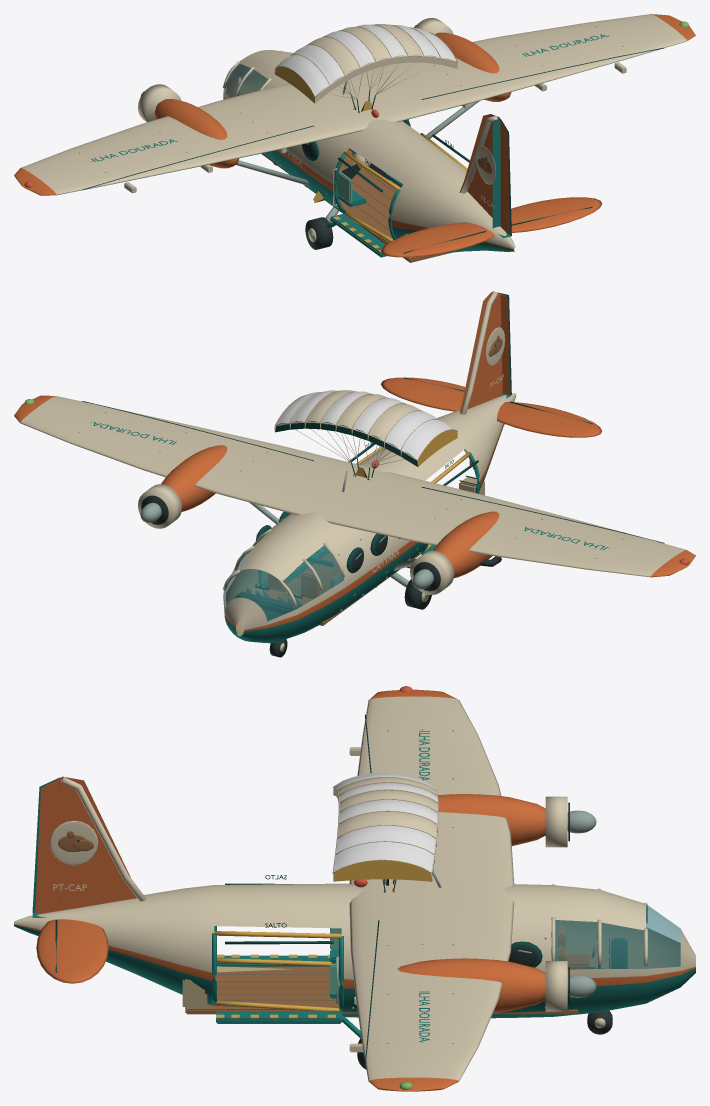
File: aircraft.glb
3 views of the same model, one above another, from view 1: azimuth 30°, elevation 25°; view 2: azimuth 150°, elevation 25°; view 3: azimuth 270°, elevation 25° (orthographic). The views are drawn at different scales.
Visible parts, largest first — view 1: plane_body_LOD0, chute_base_LOD0, chute_team_LOD0, plane_glass_LOD0, plane_propeller_LOD0; view 2: plane_body_LOD0, chute_base_LOD0, plane_glass_LOD0, chute_team_LOD0; view 3: plane_body_LOD0, chute_team_LOD0, plane_glass_LOD0, chute_base_LOD0.
Boxes of the visible parts, bbox=[...] form: plane_body_LOD0: bbox=[14, 14, 695, 262]; chute_base_LOD0: bbox=[274, 24, 457, 113]; chute_team_LOD0: bbox=[277, 24, 456, 95]; plane_glass_LOD0: bbox=[223, 60, 267, 97]; plane_propeller_LOD0: bbox=[313, 100, 391, 202]; plane_body_LOD0: bbox=[14, 291, 695, 657]; chute_base_LOD0: bbox=[274, 390, 457, 480]; plane_glass_LOD0: bbox=[223, 532, 343, 621]; chute_team_LOD0: bbox=[276, 390, 454, 459]; plane_body_LOD0: bbox=[14, 686, 695, 1091]; chute_team_LOD0: bbox=[334, 772, 437, 872]; plane_glass_LOD0: bbox=[555, 904, 680, 969]; chute_base_LOD0: bbox=[332, 774, 438, 892].
Size of what is drawn, in the model's own units: 24.7 by 7.5 by 17.7.
